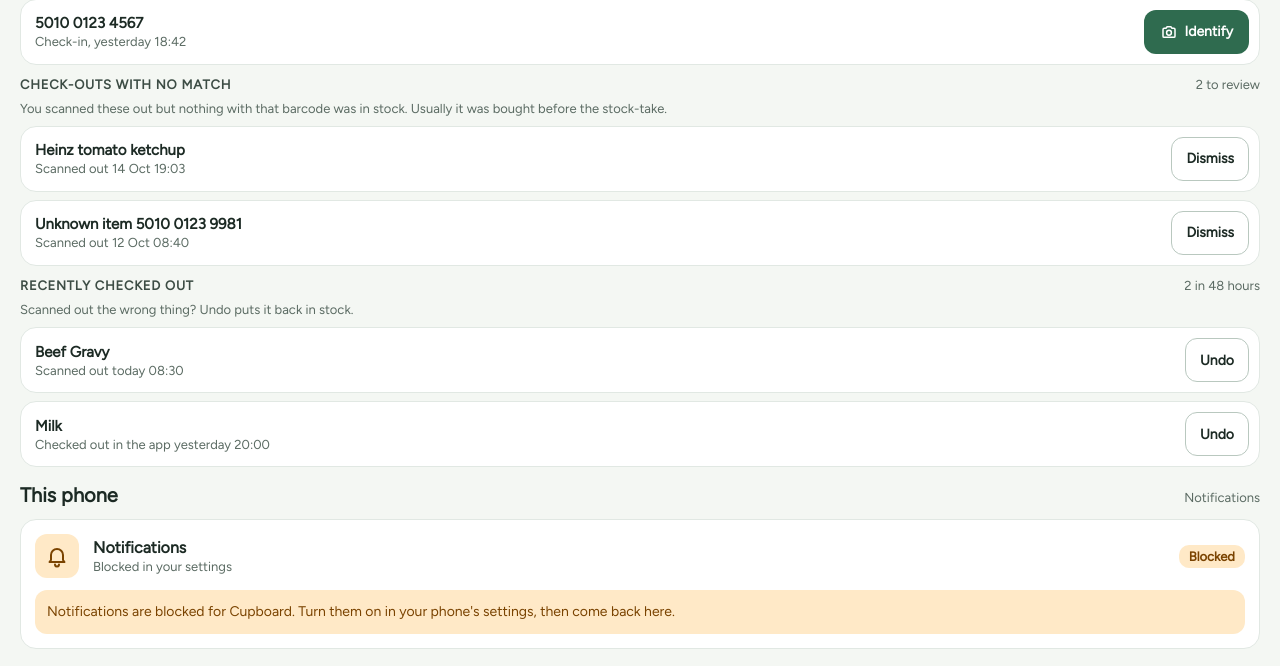
Test case: recently checked out: scanner or app, and Undo puts it back with a toast
The width and height of the screenshot is (1280, 666).
(page scrolled)
Expected: the element "Recently checked out" shows "Scanned out the wrong thing? Undo puts it back in stock.", [20, 302, 353, 317]
Expected: the list items read "Beef GravyScanned out today 08:30Undo", "MilkChecked out in the app yesterday 20:00Undo", in this order, [20, 327, 1260, 393]; [20, 401, 1260, 467]
Click the button with aria-label "Undo check-out of Beef Gravy" at (1217, 360), box [1185, 338, 1249, 382]
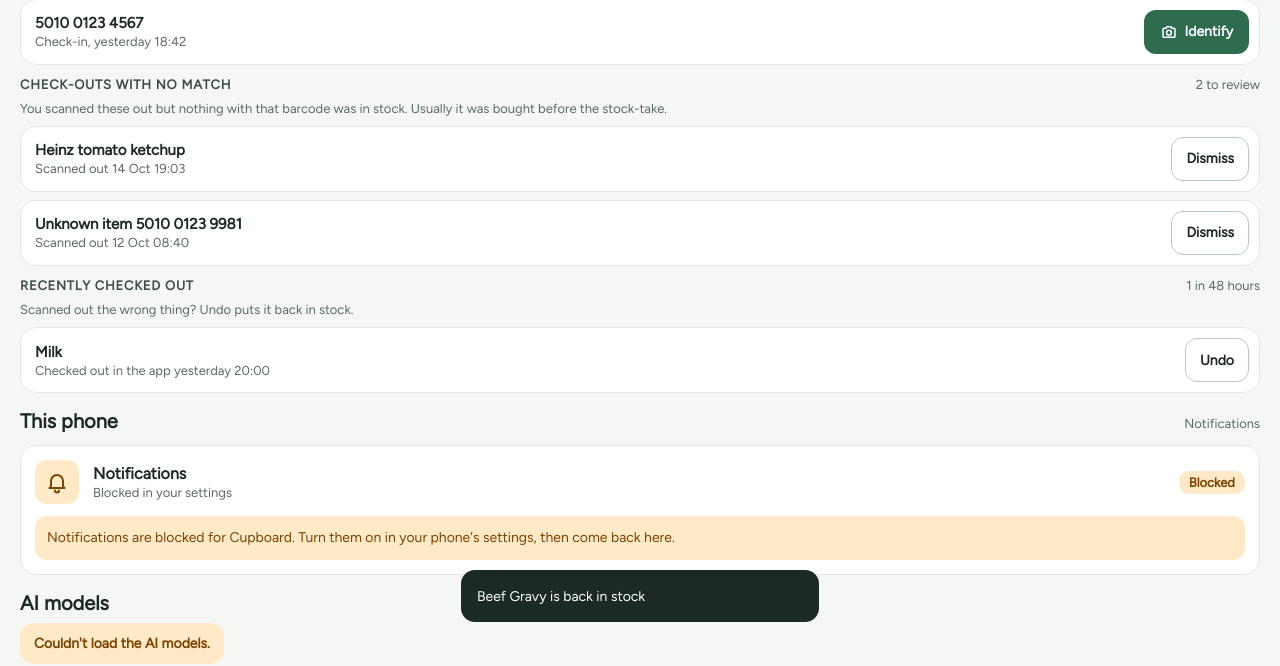
Expected: the message named "Notification" reads "Beef Gravy is back in stock", [477, 588, 645, 604]
